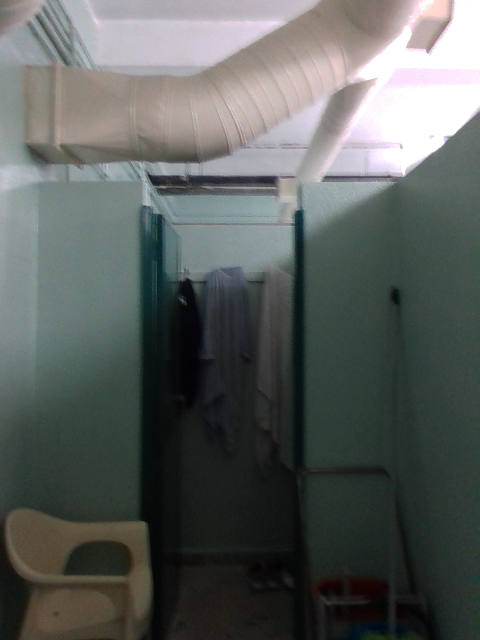open: (140, 213, 185, 636)
